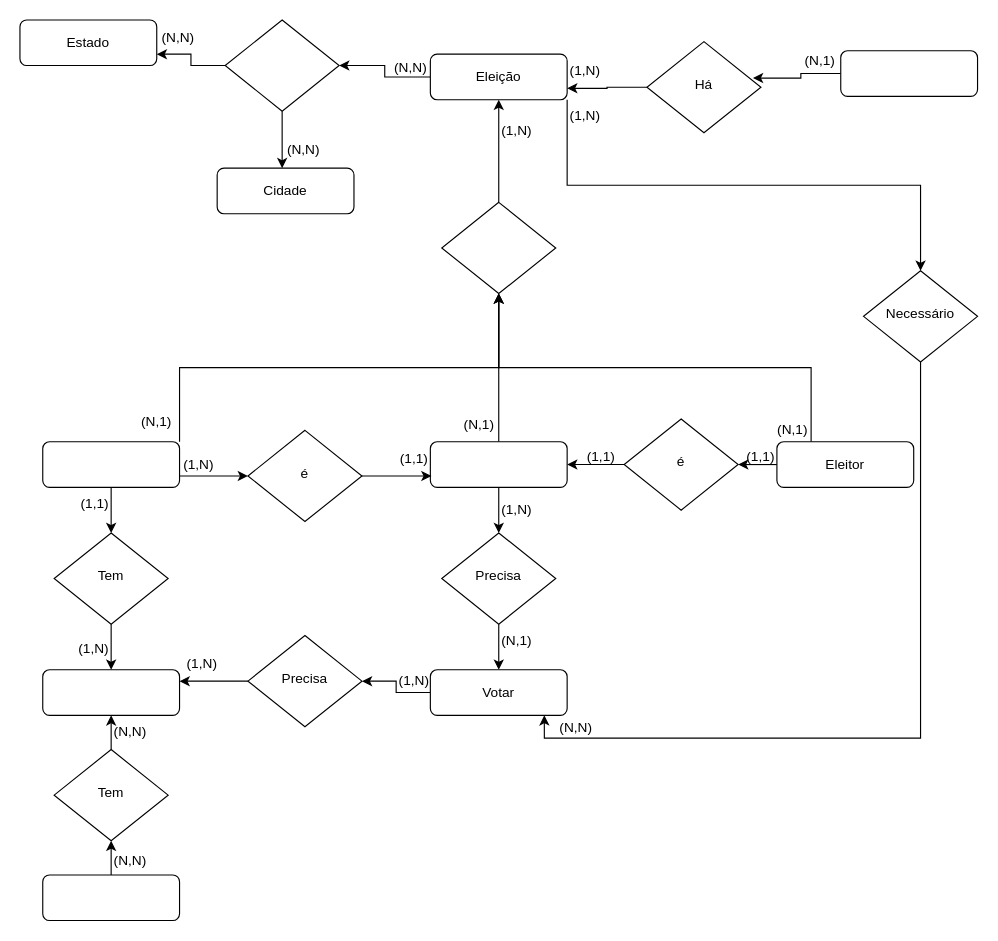
The diagram is 998 pixels wide and 941 high, and some of its shapes have lost their labels. The shapes that lost their labels are listed below. From the top down, each one's centre as x and y in pixels, then its label:
At (281,65): "Por".
At (909,73): "Turno".
At (498,247): "Participa".
At (111,464): "Candidatos".
At (498,464): "Pessoa".
At (111,692): "Cargo".
At (111,897): "Partido".
